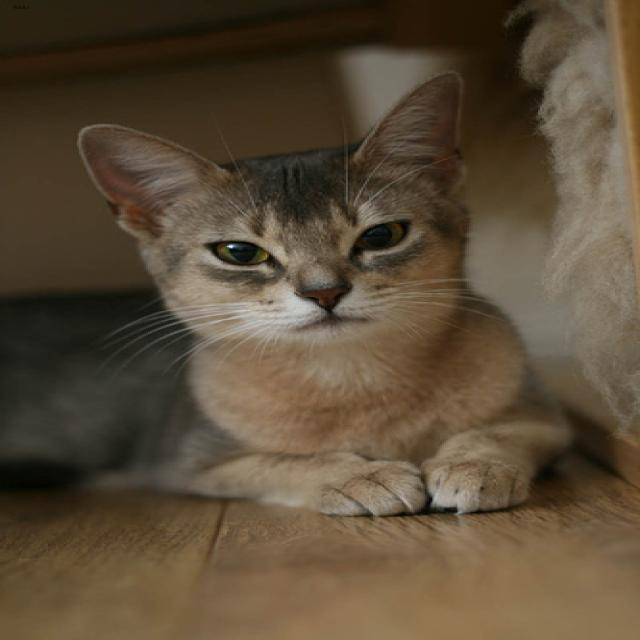Abyssinian: (73, 71, 463, 340)
